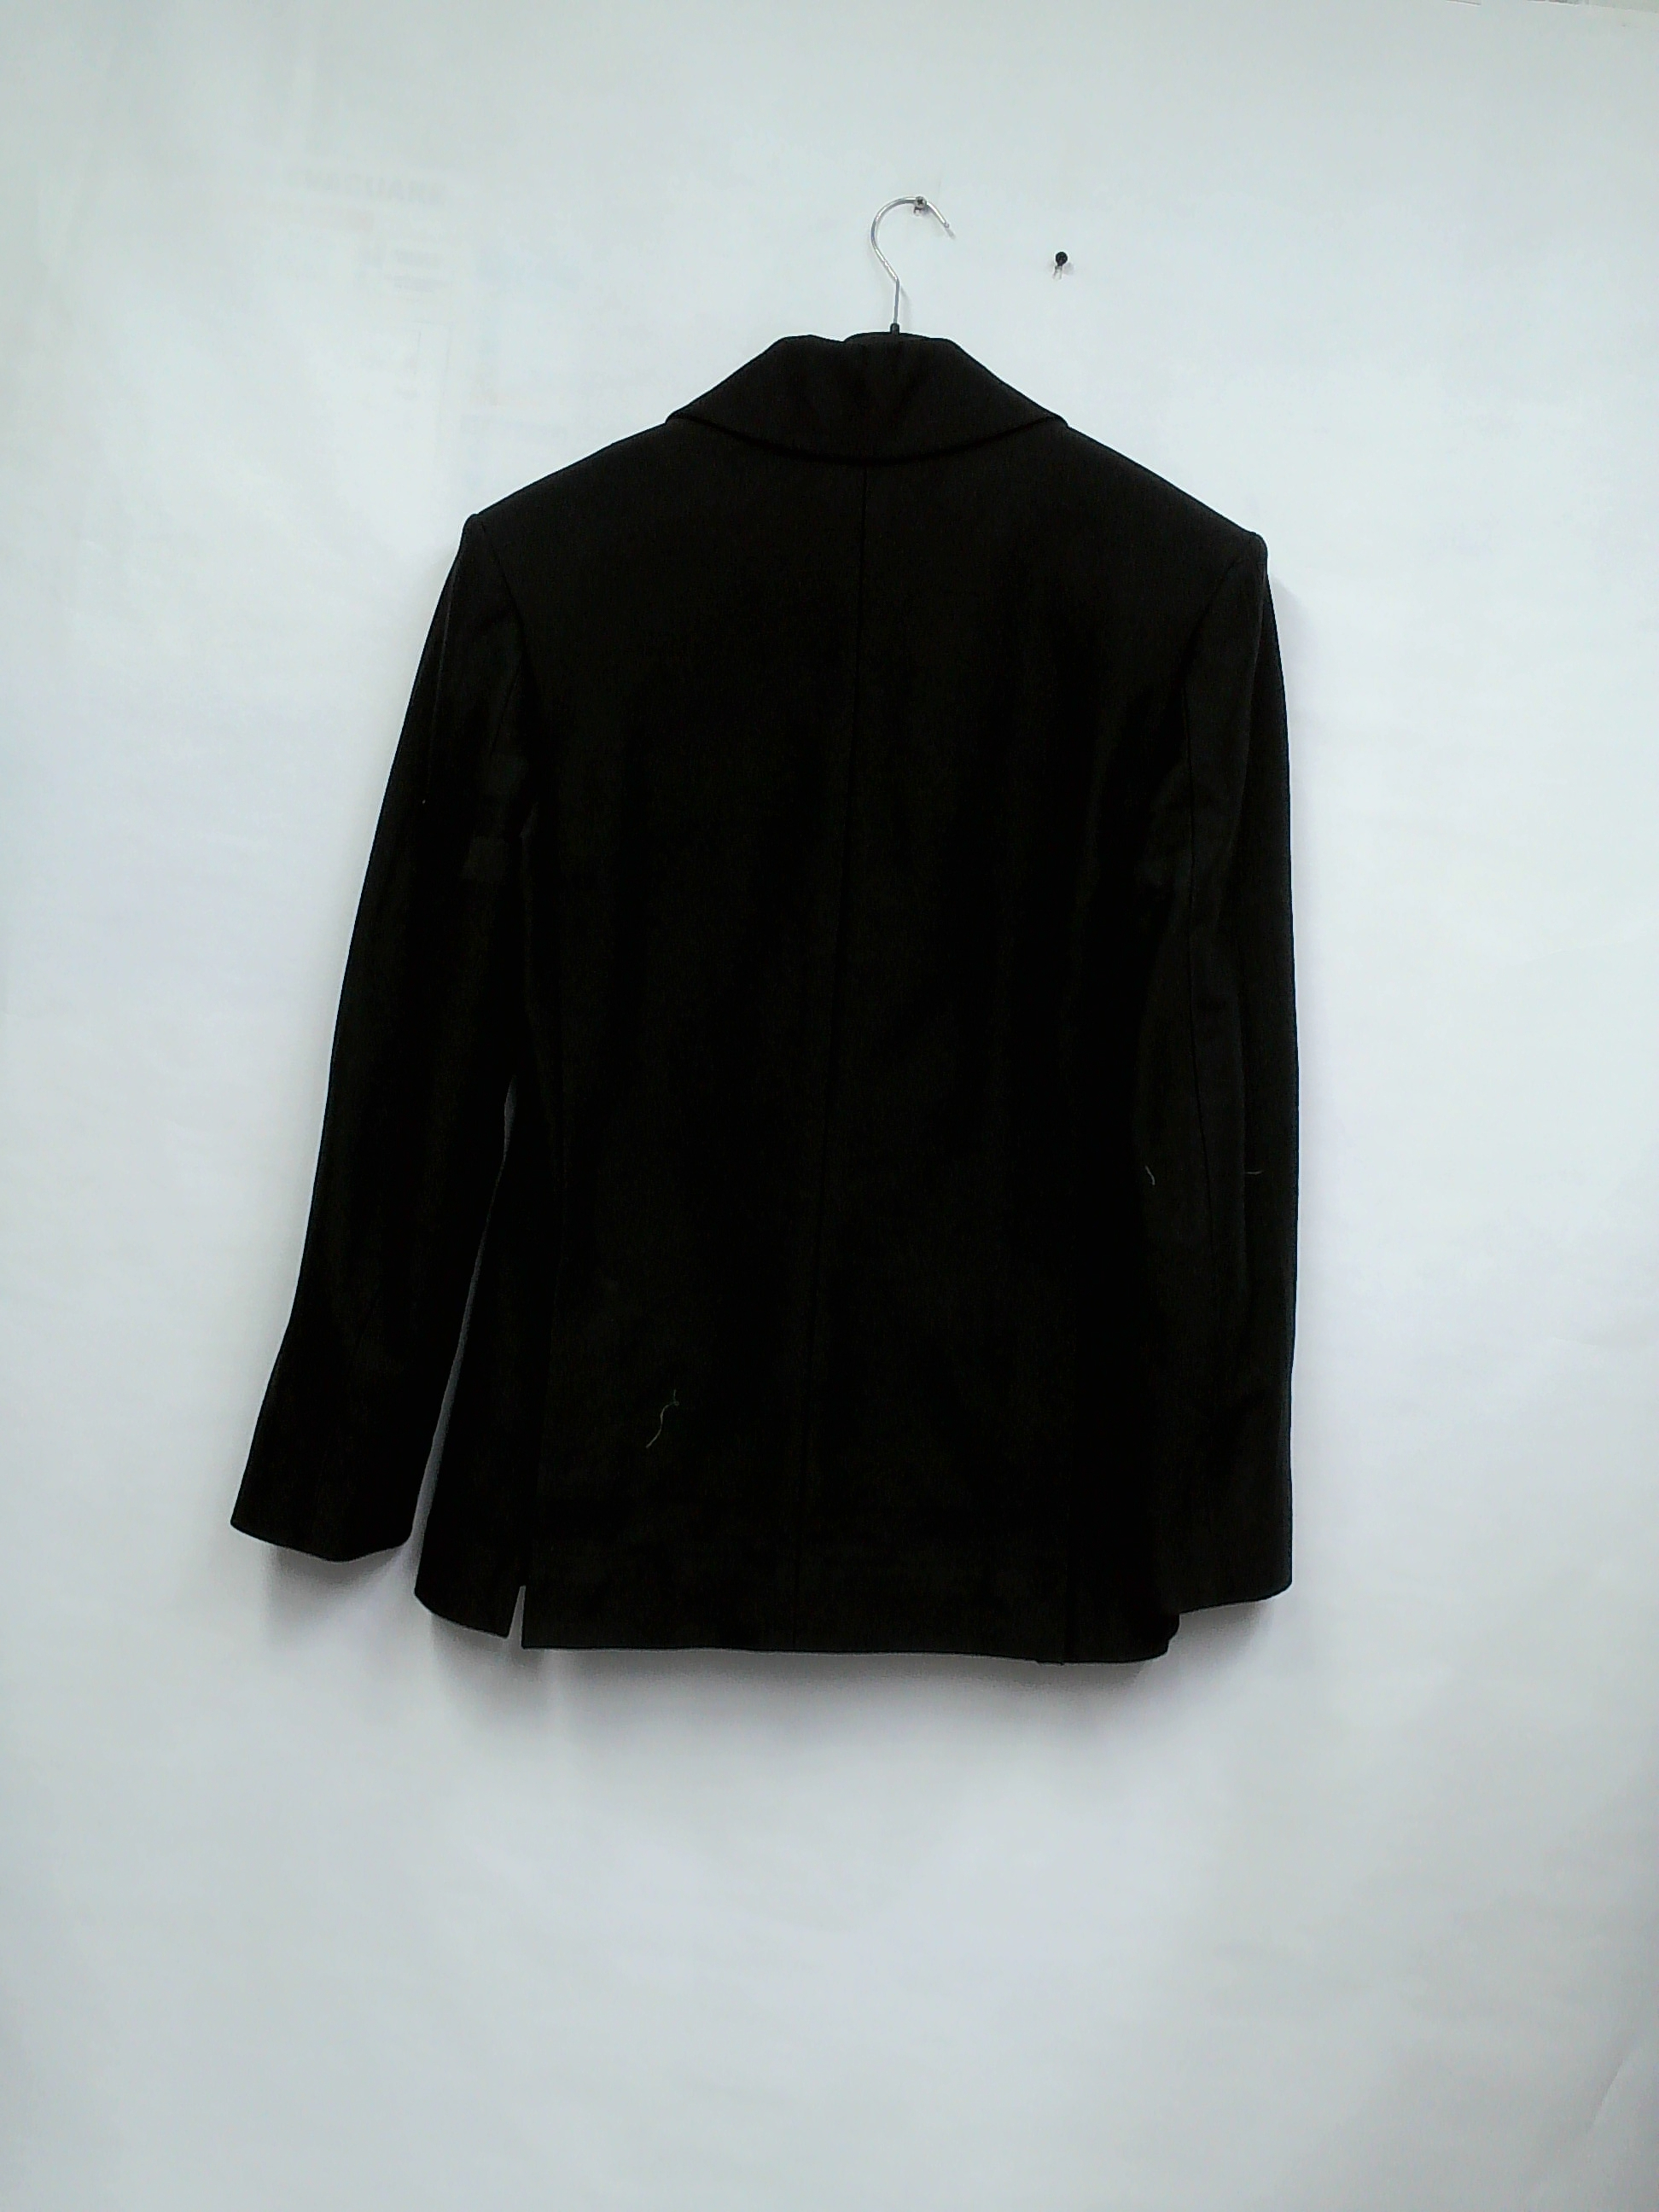seam: (507, 1188, 699, 1378)
